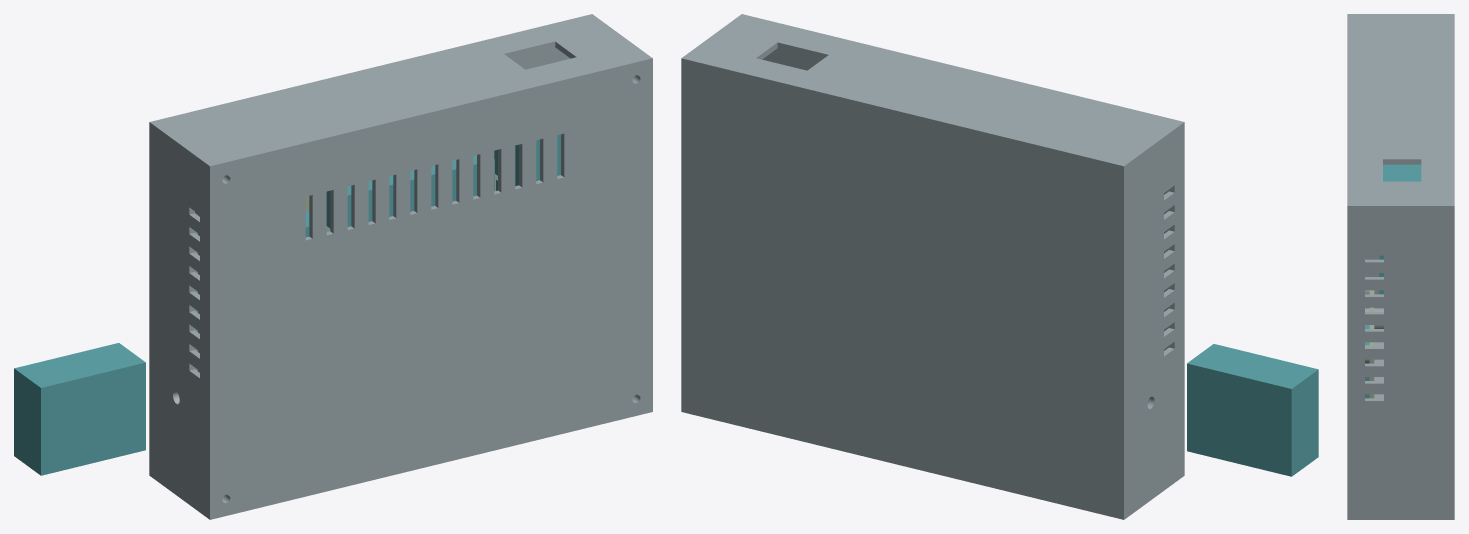
File: assembly.glb
3 renders of one model, left to right at view 1: azimuth 30°, elevation 25°; view 2: azimuth 150°, elevation 25°; view 3: azimuth 270°, elevation 25°, orthographic. The views are drawn at different scales.
Visible parts, largest first — view 1: mockup_lid, mockup_base, BME_POD_ENVELOPE, PD; view 2: mockup_base, BME_POD_ENVELOPE, mockup_lid; view 3: mockup_base, mockup_lid, PD, radar_holder.
Part boxes in pixels (left/top/right/bottom): mockup_lid: left=206, top=56, right=652, bottom=519; mockup_base: left=149, top=14, right=648, bottom=516; BME_POD_ENVELOPE: left=14, top=343, right=145, bottom=475; PD: left=326, top=155, right=494, bottom=228; mockup_base: left=681, top=16, right=1181, bottom=519; BME_POD_ENVELOPE: left=1187, top=344, right=1318, bottom=476; mockup_lid: left=739, top=14, right=1184, bottom=477; mockup_base: left=1353, top=14, right=1454, bottom=519; mockup_lid: left=1347, top=14, right=1369, bottom=519; PD: left=1383, top=164, right=1421, bottom=181; radar_holder: left=1369, top=290, right=1374, bottom=398.
Size of the model in its own units: 0.255 by 0.145 by 0.045.
